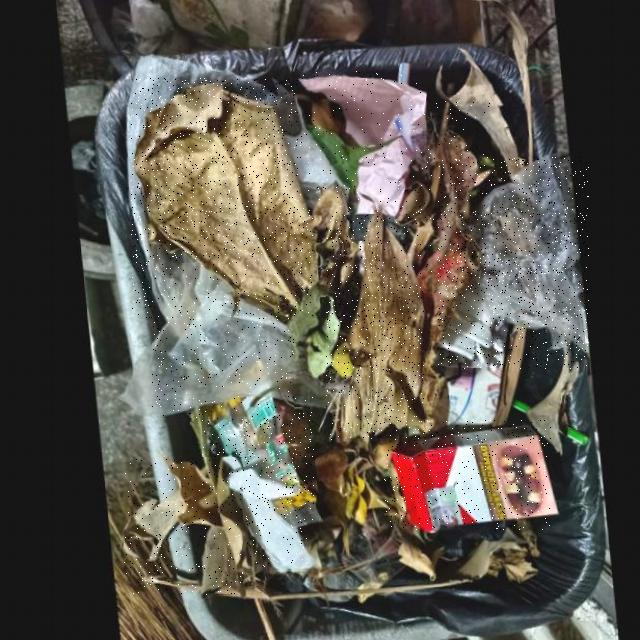biowaste: (132, 79, 313, 318), (326, 209, 424, 440), (382, 95, 491, 273), (125, 458, 243, 595)
paper: (384, 420, 551, 530), (298, 71, 425, 215), (218, 465, 307, 570)
plastic: (438, 158, 589, 369), (153, 264, 294, 418)
wrapper: (203, 396, 314, 526)
